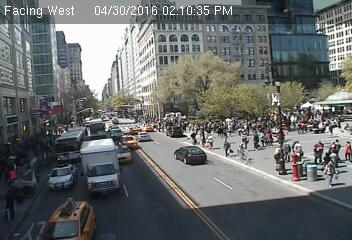neg: (153, 31, 177, 62), (157, 135, 176, 161), (138, 136, 155, 158), (165, 173, 182, 195), (58, 200, 74, 221), (220, 32, 236, 52), (129, 166, 144, 186), (267, 85, 282, 105), (67, 78, 81, 97), (240, 32, 254, 51), (60, 174, 73, 192), (82, 82, 95, 100), (91, 44, 104, 62), (23, 181, 35, 197), (202, 38, 210, 49)
pos: (320, 160, 341, 188), (247, 129, 263, 150), (339, 139, 351, 162), (186, 125, 200, 144), (220, 139, 234, 157), (204, 134, 217, 151), (326, 120, 338, 137)
